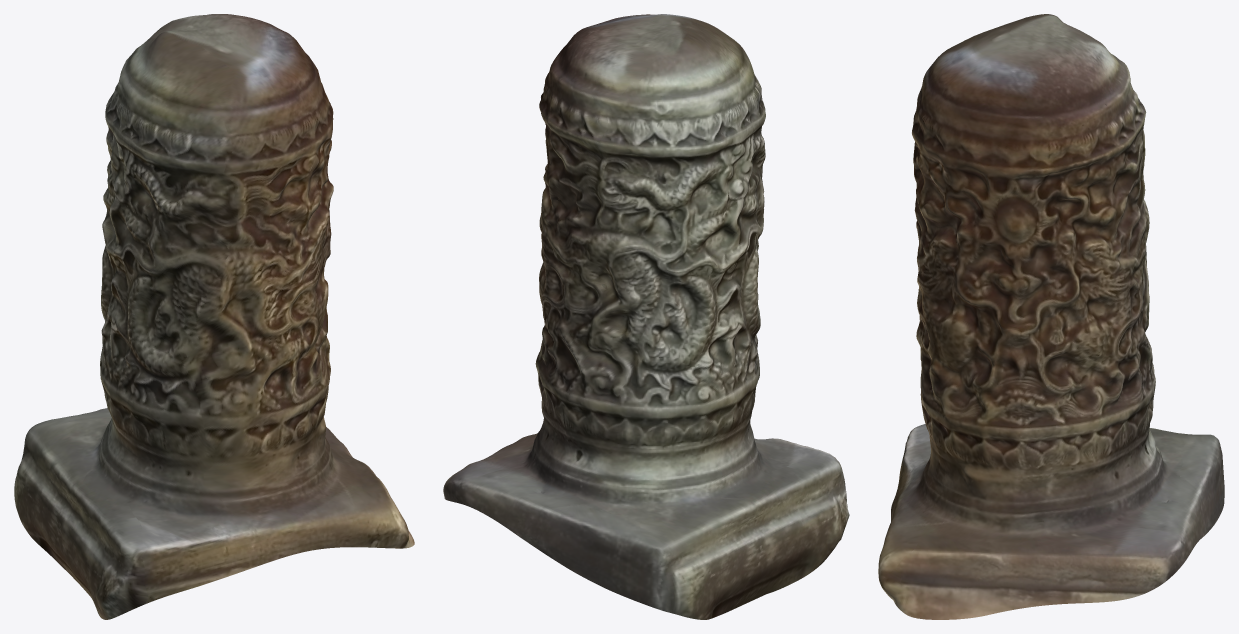
Rendered from chinese_artifact_01.glb.
3 renders of one model, left to right at view 1: azimuth 30°, elevation 25°; view 2: azimuth 150°, elevation 25°; view 3: azimuth 270°, elevation 25°, orthographic. The views are drawn at different scales.
Visible parts, largest first — view 1: Object_2; view 2: Object_2; view 3: Object_2.
Boxes of the visible parts, x1=… form: Object_2: x1=14, y1=14, x2=414, y2=619; Object_2: x1=443, y1=14, x2=849, y2=619; Object_2: x1=878, y1=14, x2=1224, y2=619.
Size of the model in its own units: 10.8 by 18.11 by 10.24.
1 material, 1 textured.
